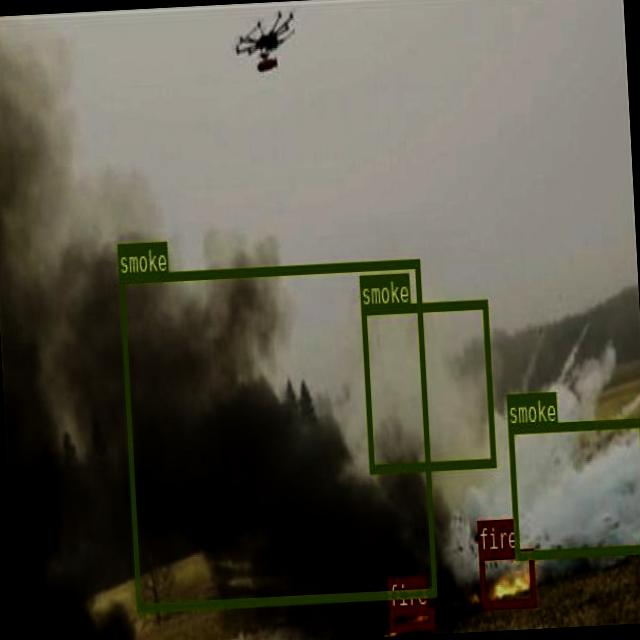fire: (478, 547, 535, 608), (388, 605, 434, 629)
smoke: (118, 258, 436, 610), (360, 298, 495, 472), (507, 416, 640, 558)
